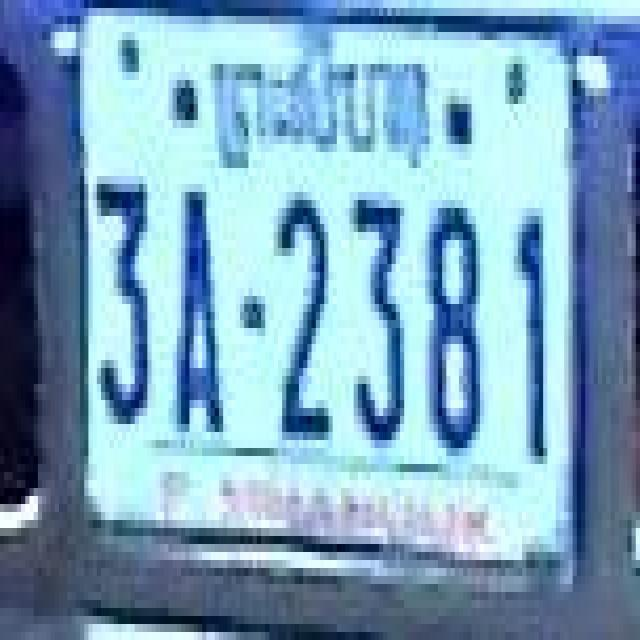Preah_Sihanouk: (211, 24, 430, 179)
